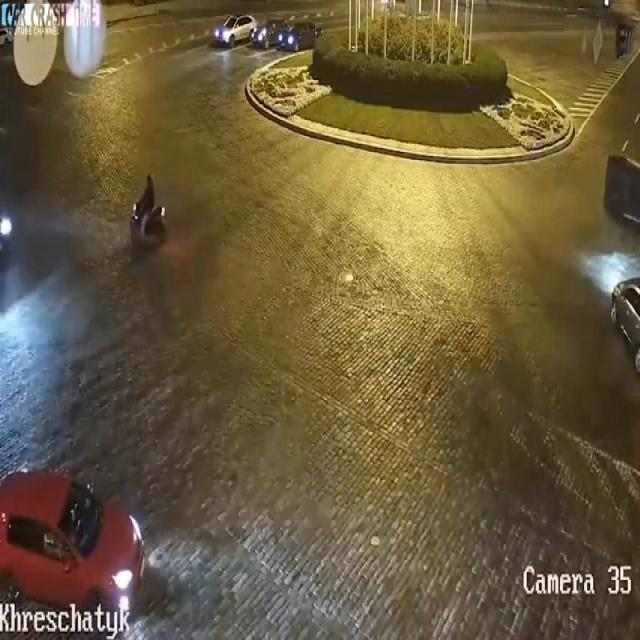Accident: (610, 113, 640, 282)
